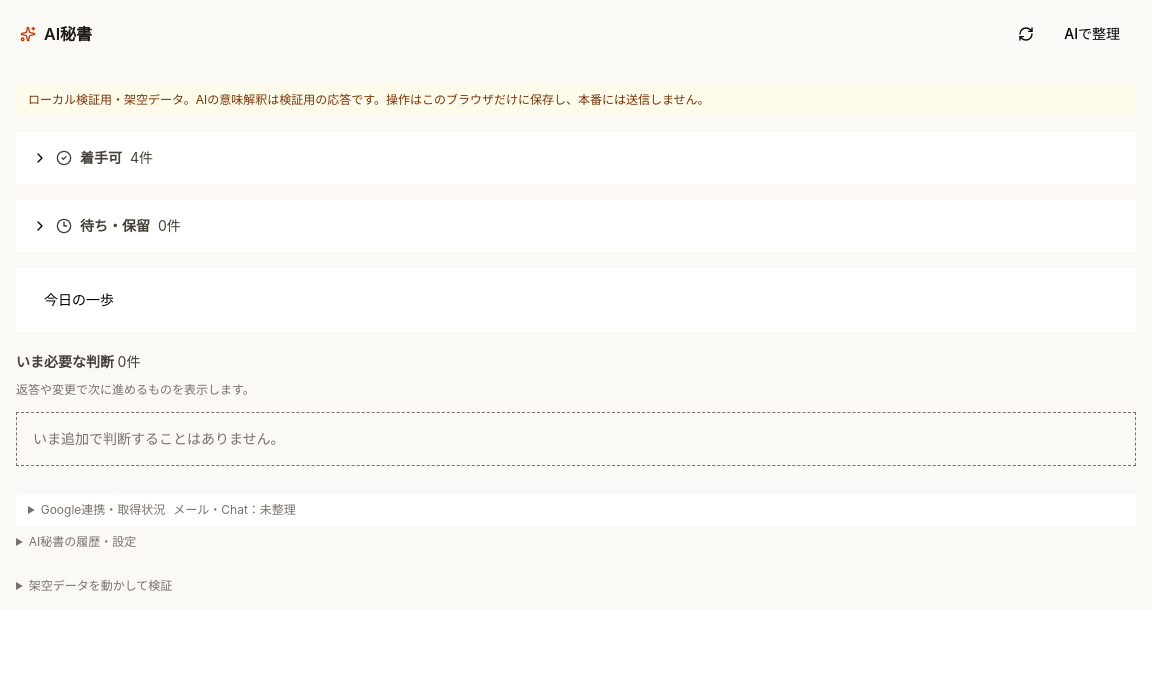
shows registered work even with zero AI proposals; keeps checks and names out of questions
Click the heading "着手可 4件".
click(92, 158)  # box [32, 149, 153, 166]
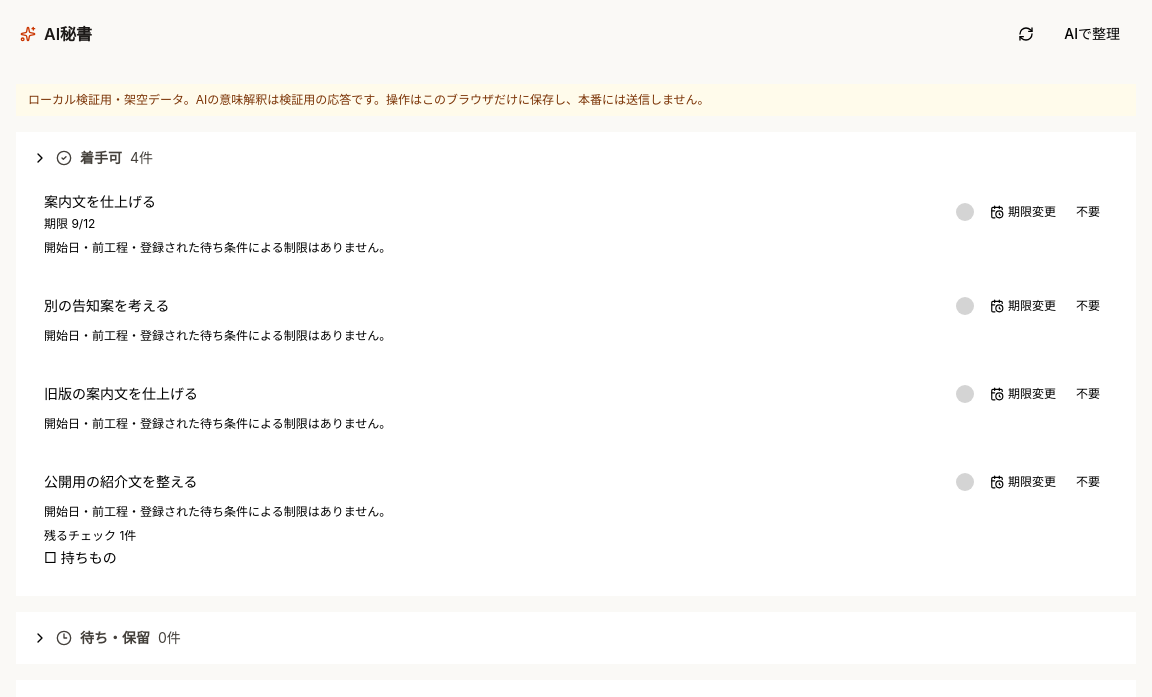
Expected: the element named "仕事: 公開用の紹介文を整える" does not show "注文済み", [32, 456, 1120, 580]
Expected: the element named "仕事: 公開用の紹介文を整える" shows "持ちもの", [61, 549, 117, 566]
